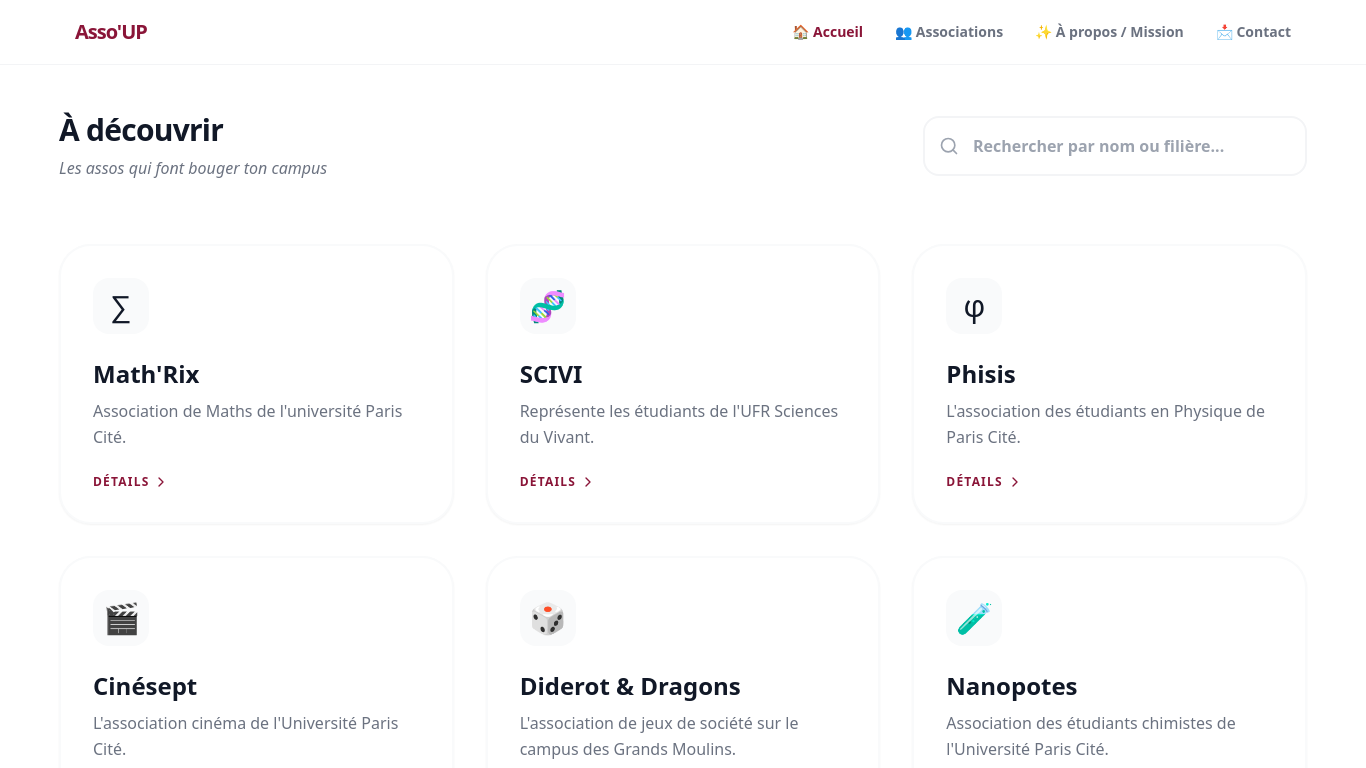
Test: le pied de page Annuaire quitte une fiche
The width and height of the screenshot is (1366, 768).
(page scrolled)
Click the button that starts with "Math'Rix".
click(121, 306)  # box left=59, top=244, right=454, bottom=524
(page scrolled)
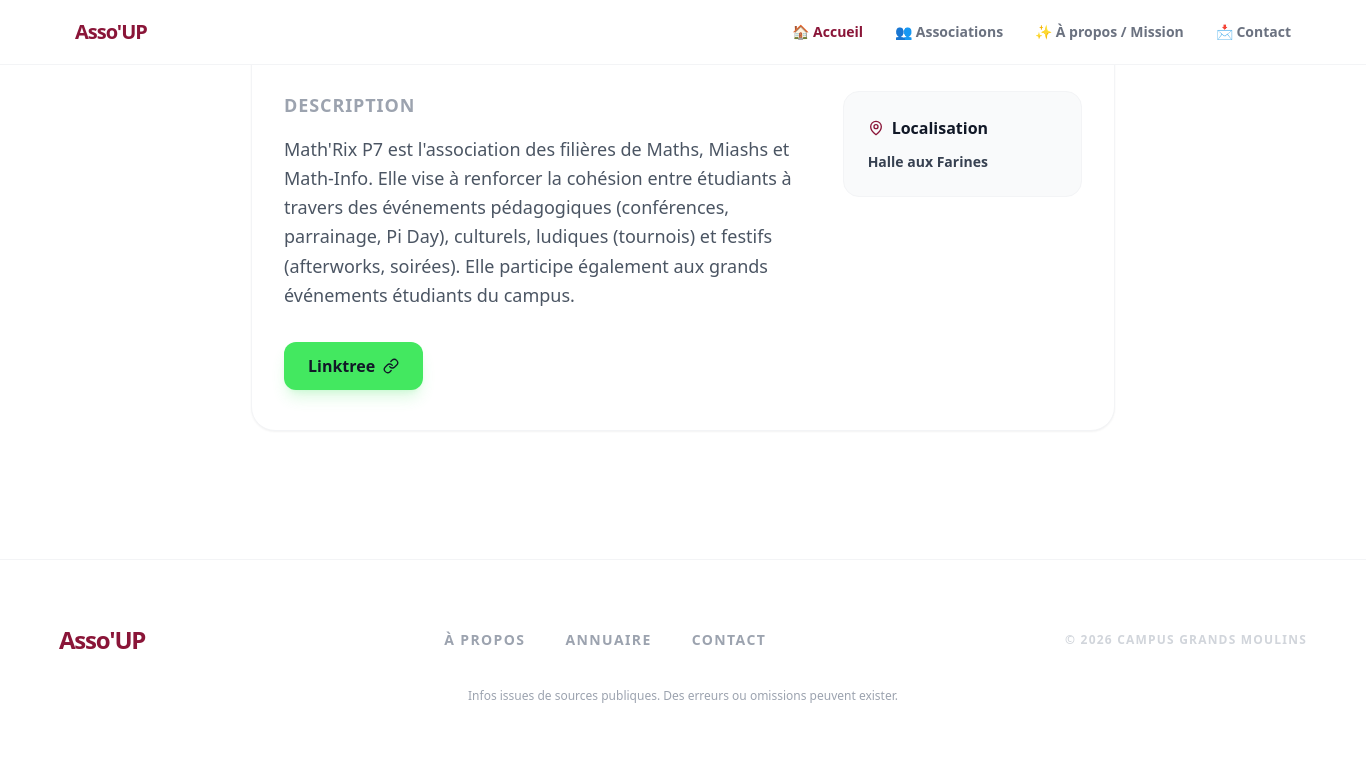
Click the button "Annuaire".
click(609, 640)  # box left=566, top=630, right=652, bottom=650
(page scrolled)
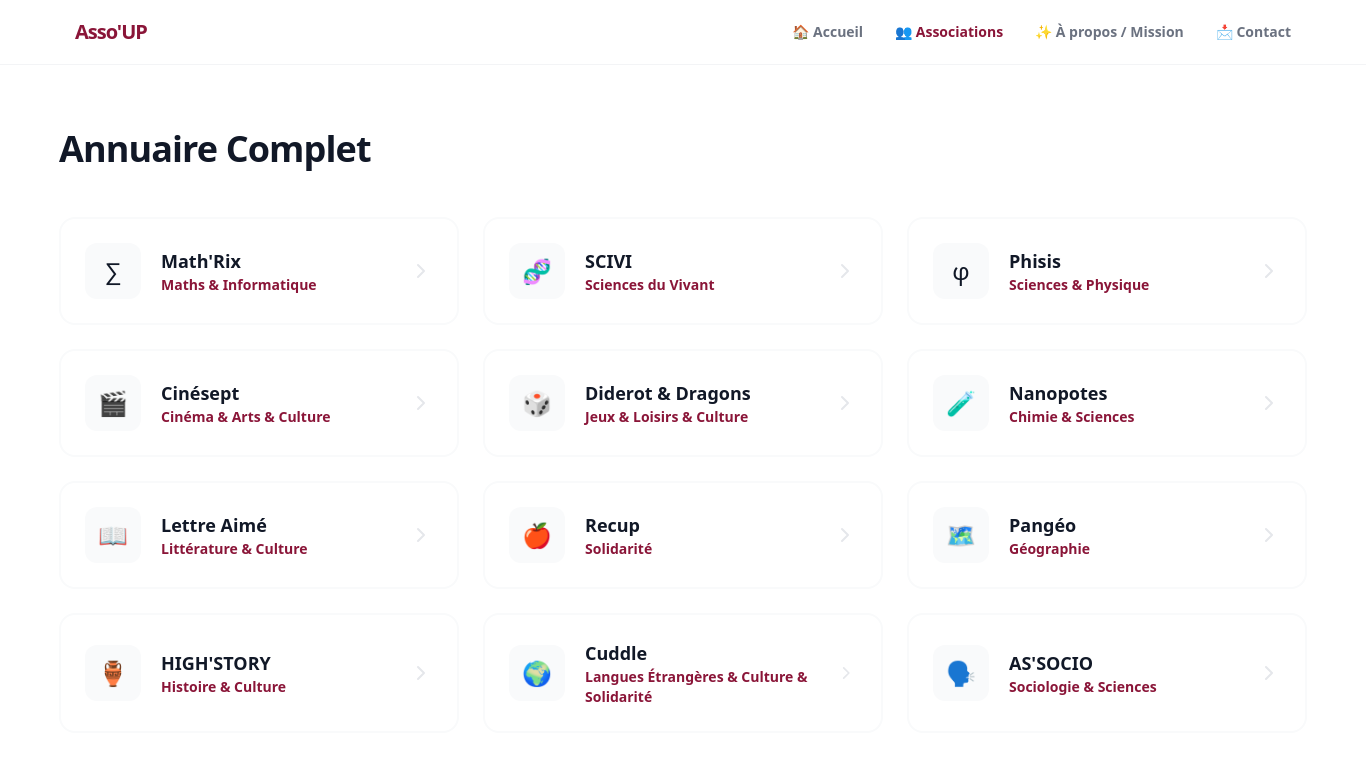
Now the heading "Annuaire Complet" is shown, box left=59, top=124, right=371, bottom=173
